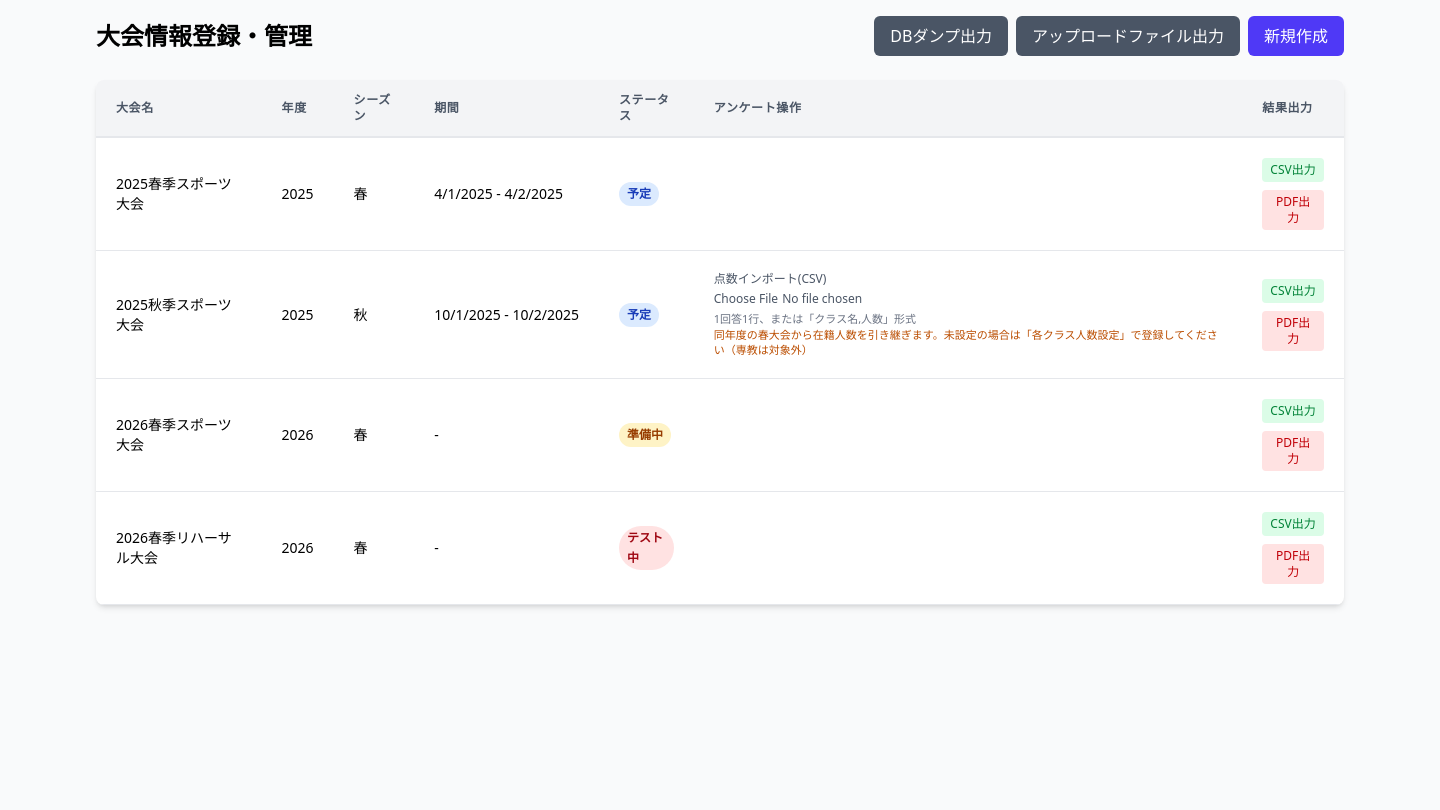
Event Management Page › テスト中の大会を識別し、ステータスを編集できること
Check: the text "テスト中" is shown, box [619,526,674,570]
Step 1. Click the text "2026春季リハーサル大会" → click(179, 548), box [96,492,262,605]
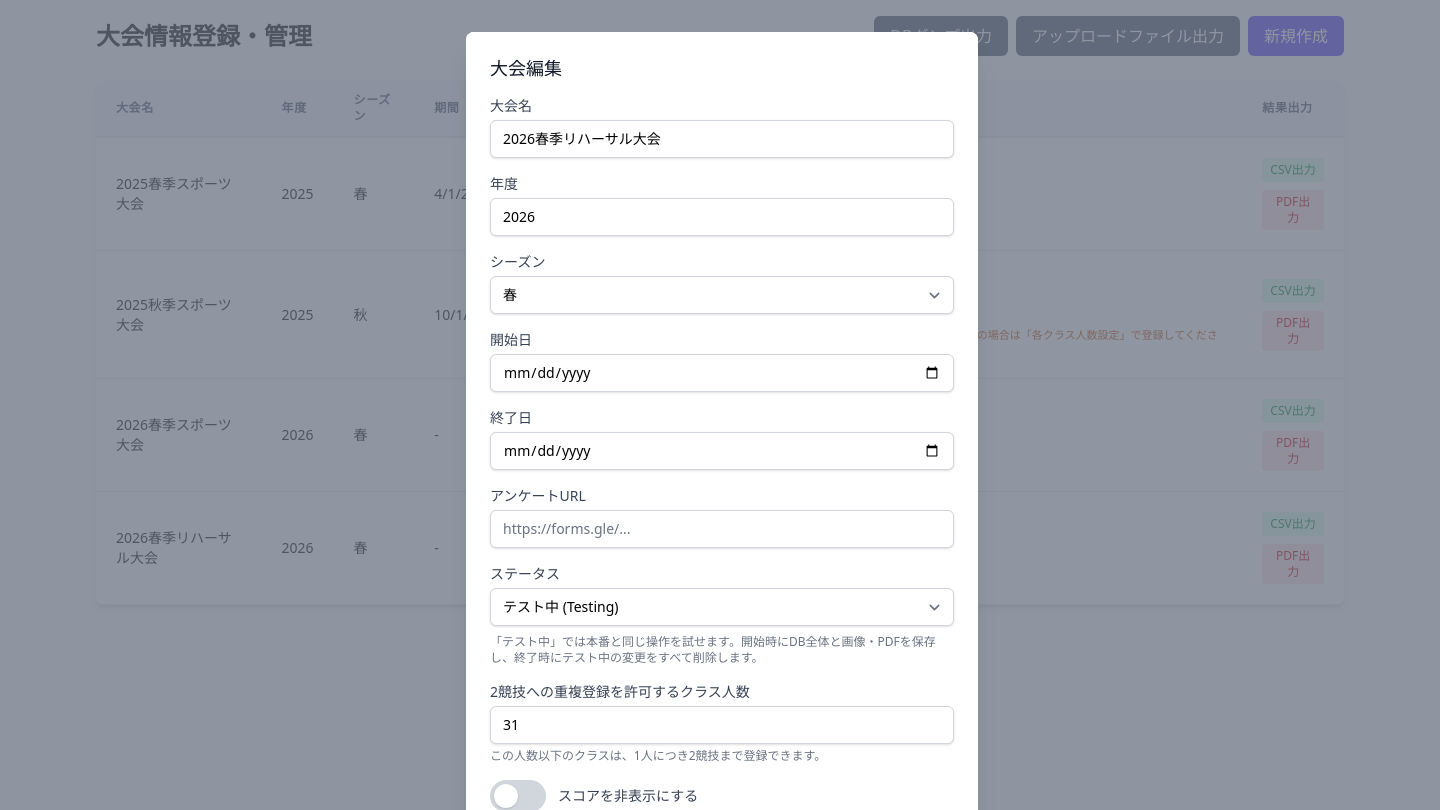
Check: the dropdown labelled "ステータス" shows "テスト中 (Testing)", box [490,588,954,626]
Check: the text "開始時にDB全体と画像・PDFを保存" is shown, box [490,633,936,666]
